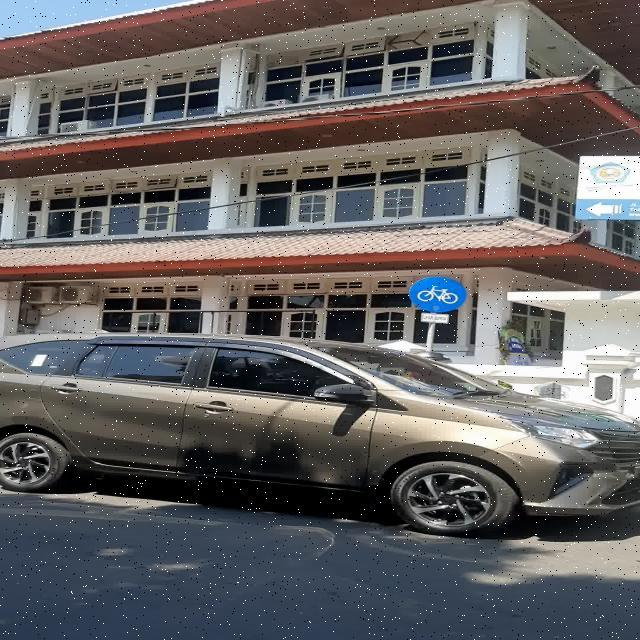Jalur Sepeda: (408, 276, 467, 313)
